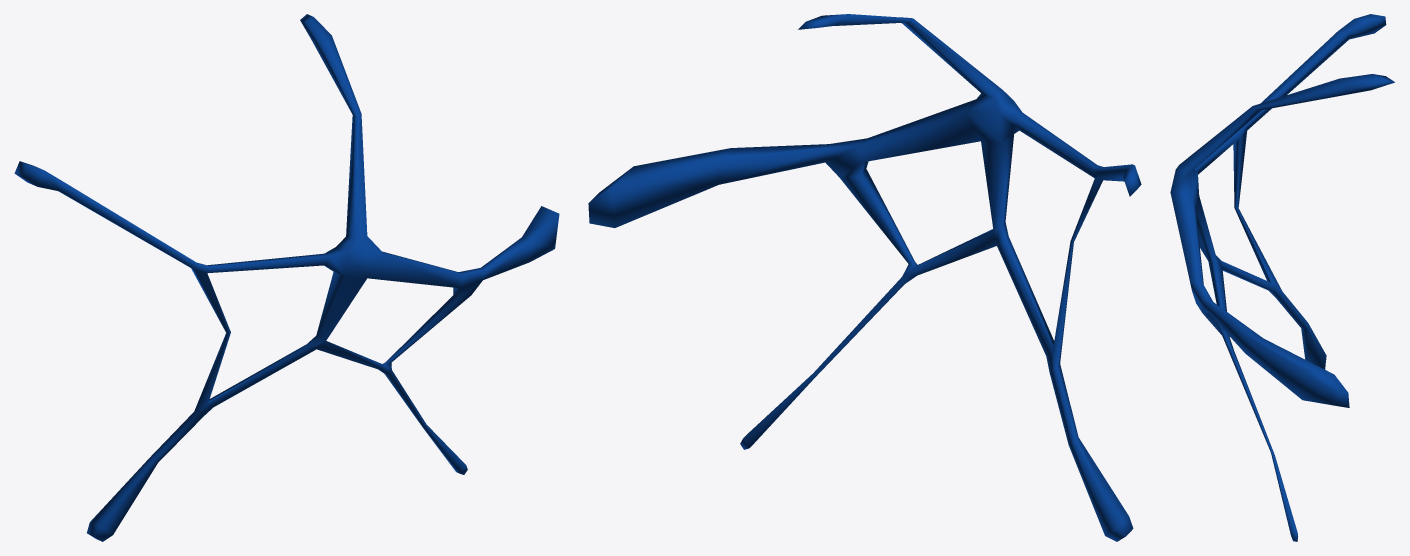
File: web_blue.FBX
3 views of the same model, side by side, from view 1: azimuth 30°, elevation 25°; view 2: azimuth 150°, elevation 25°; view 3: azimuth 270°, elevation 25° (orthographic). The views are drawn at different scales.
Visible parts, largest first — view 1: Box013; view 2: Box013; view 3: Box013.
Part boxes in pixels (x1,y1,x2,y2): Box013: (14,14,559,541); Box013: (588,14,1141,541); Box013: (1170,14,1394,541).
Size of the model in its own units: 21.71 by 18.14 by 8.89.
